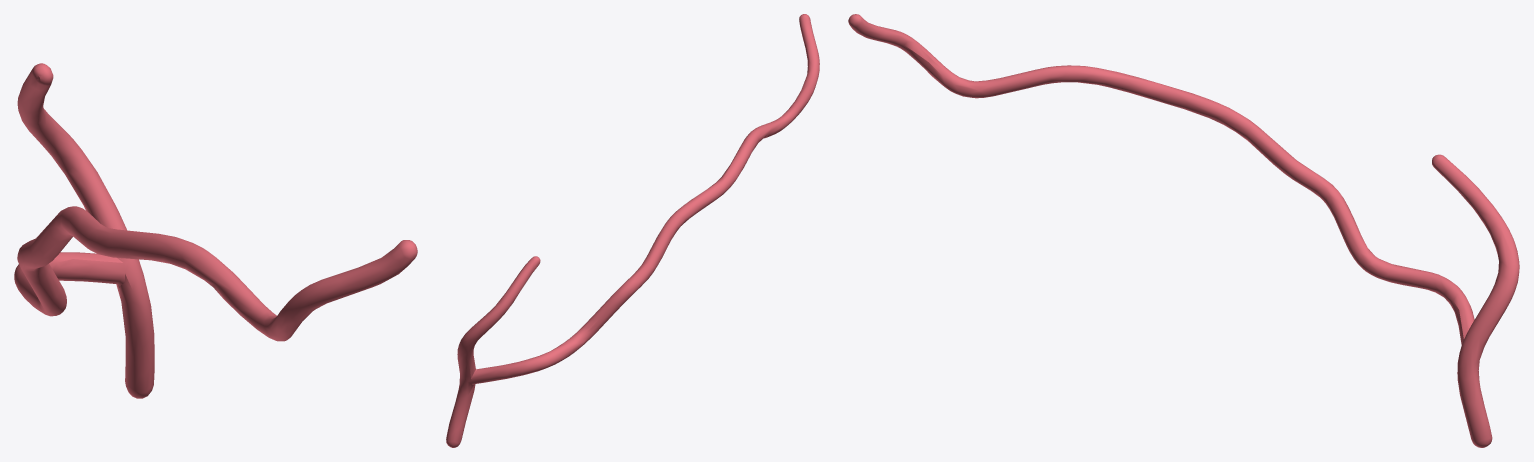
The model's file is fma51242_fj5090.glb.
The picture shows the model from 3 angles, left to right: view 1: azimuth 30°, elevation 25°; view 2: azimuth 150°, elevation 25°; view 3: azimuth 270°, elevation 25°; orthographic projection. The views are drawn at different scales.
Parts seen in each view (by area): view 1: FMA51242_FJ5090; view 2: FMA51242_FJ5090; view 3: FMA51242_FJ5090.
Boxes of the visible parts, x1,y1,x2,y2 form: FMA51242_FJ5090: (14, 63, 417, 398); FMA51242_FJ5090: (446, 14, 819, 447); FMA51242_FJ5090: (848, 14, 1519, 447).
Size of the model in its own units: 0.0295 by 0.0508 by 0.085.
